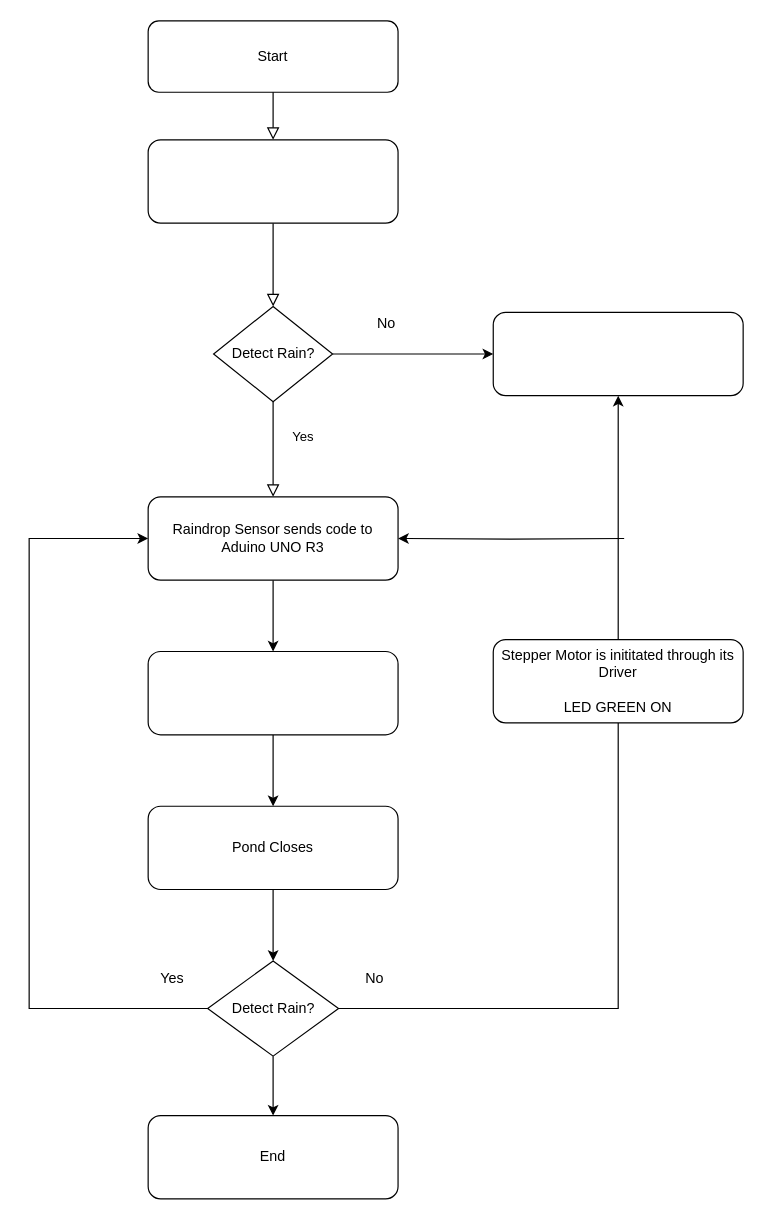
Some shapes in this 764 by 1220 pixel diagram are drawn without their labels. The shapes that lost their labels are listed below. From the top down, each one's centre as x and y in pixels, then its label:
At [272,181]: "Raindrop Sensor Monitor weather Conditions".
At [617,353]: "Keep Pond Open".
At [272,692]: "Stepper Motor is inititated through its Driver LED RED ON".
